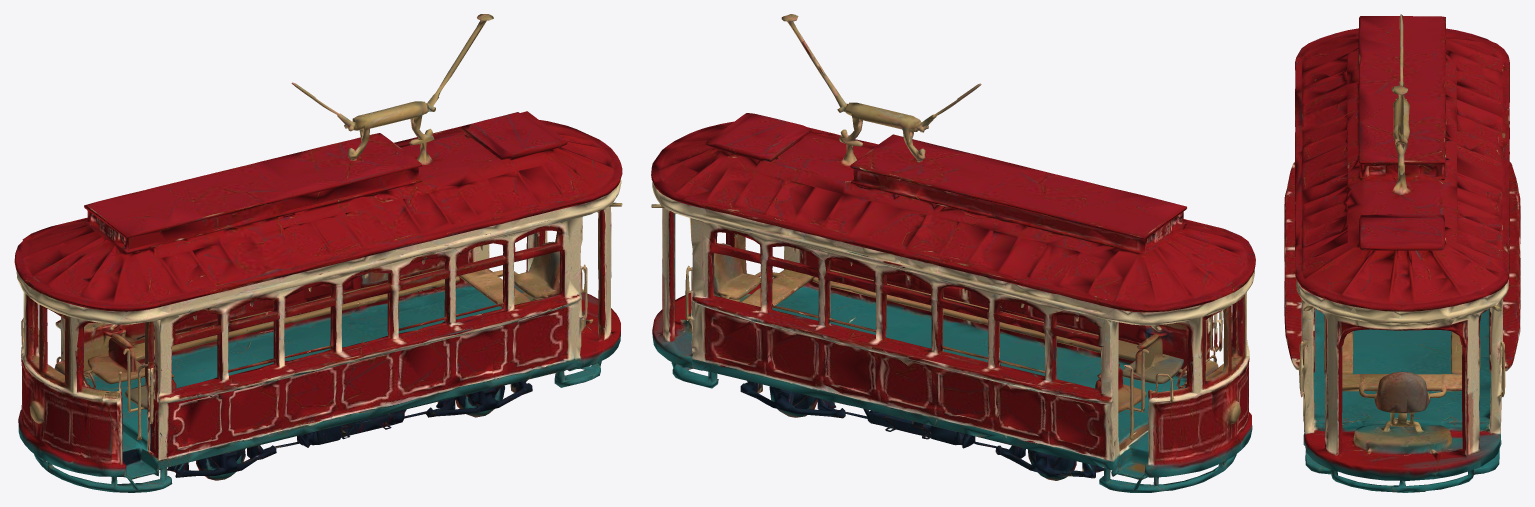
File: tram.glb
3 renders of one model, left to right at view 1: azimuth 30°, elevation 25°; view 2: azimuth 150°, elevation 25°; view 3: azimuth 270°, elevation 25°, orthographic.
Size of the model in its own units: 1.9 by 1.16 by 0.669.
Materials: 1 (1 with a texture image).
